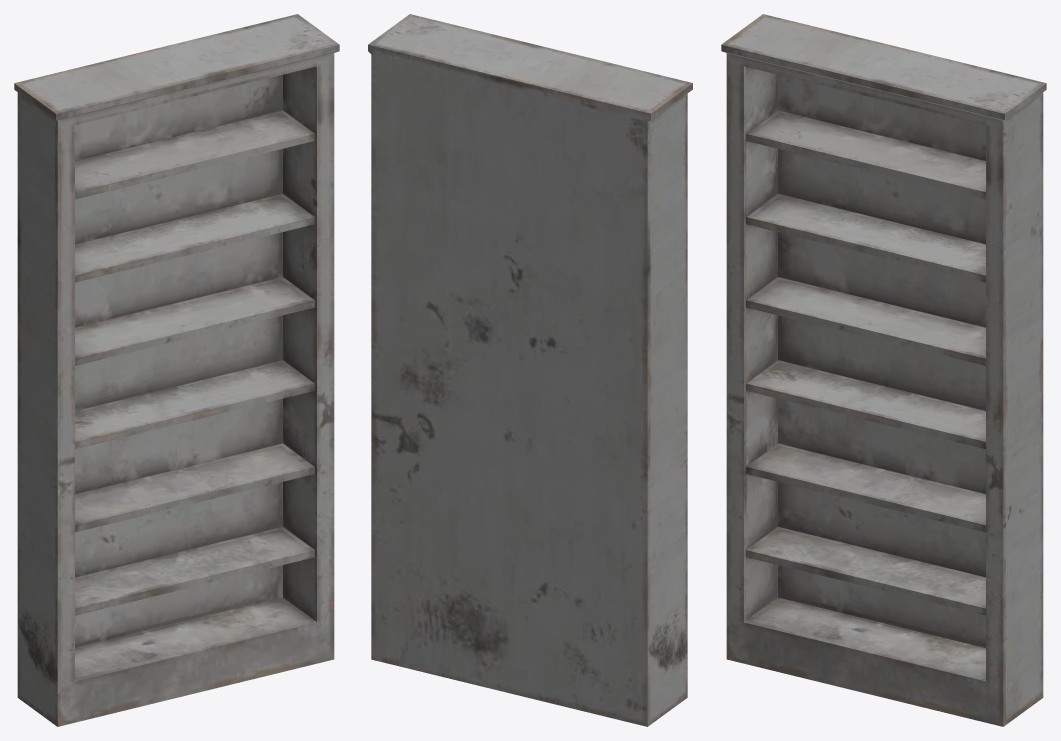
Rendered from Shelf_01.2d6d7134.glb.
3 views of the same model, side by side, from view 1: azimuth 30°, elevation 25°; view 2: azimuth 150°, elevation 25°; view 3: azimuth 330°, elevation 25° (orthographic).
Visible parts, largest first — view 1: Shelf_01; view 2: Shelf_01; view 3: Shelf_01.
Part boxes in pixels (box(x1,y1,x2,y2)): Shelf_01: box(14, 14, 339, 726); Shelf_01: box(368, 14, 692, 726); Shelf_01: box(721, 14, 1046, 726).
Size of the model in its own units: 1 by 2.08 by 0.257.
Materials: 1 (1 with a texture image).
